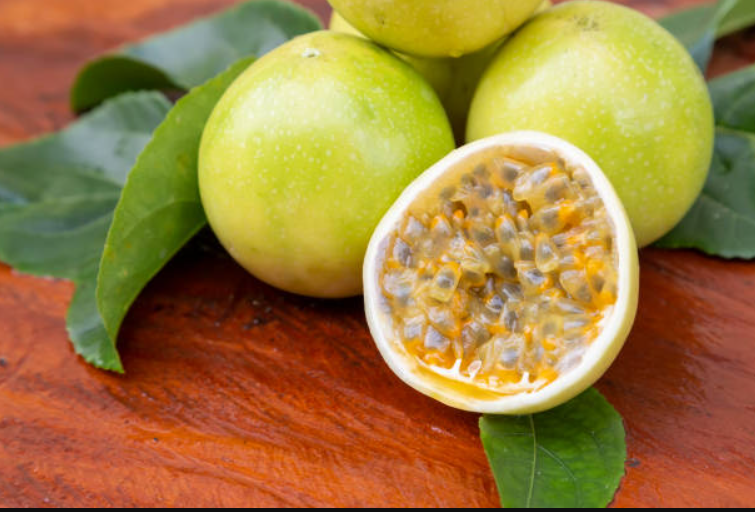maracuya: (187, 27, 458, 314), (462, 1, 720, 263)
